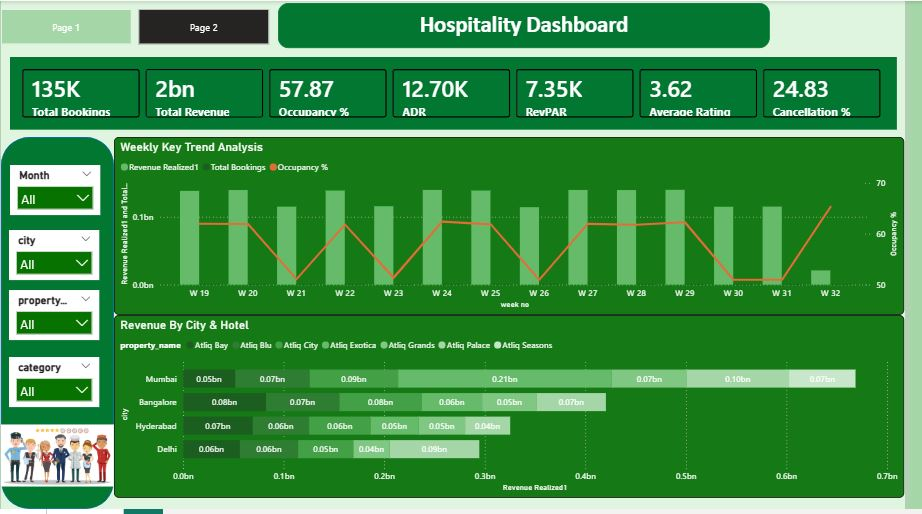

Layout of this report page (visuals, bound fields, positions):
{"tool":"powerbi","page":{"name":"Page 2","canvas":[1280,720],"ordinal":1},"visuals":[{"type":"lineClusteredColumnComboChart","title":"Weekly Key Trend Analysis ","fields":{"Category":["dim_date.week no"],"Y":["fact_bookings.Revenue Realized1","fact_bookings.Total Bookings"],"Y2":["fact_bookings.Occupancy %"]},"box":[160.2,192.8,1119.7,252.3],"z":0},{"type":"barChart","title":"Revenue By City & Hotel","fields":{"Category":["dim_hotels.city"],"Y":["fact_bookings.Revenue Realized1"],"Series":["dim_hotels.property_name"]},"box":[160.2,445,1119.7,259.4],"z":1000},{"type":"shape","box":[0,192.8,160.2,527.2],"z":2000},{"type":"slicer","fields":{"Values":["dim_date.mmm yy.Variation.Date Hierarchy.Month"]},"box":[13,232.3,128.4,70.7],"z":3000},{"type":"slicer","fields":{"Values":["dim_hotels.city"]},"box":[11.5,324.6,128.4,70.7],"z":4000},{"type":"slicer","fields":{"Values":["dim_hotels.property_name"]},"box":[11.5,409.7,128.4,70.7],"z":5000},{"type":"slicer","fields":{"Values":["dim_hotels.category"]},"box":[11.5,505,128.4,70.7],"z":6000},{"type":"image","box":[0,588.2,160.2,112],"z":7000},{"type":"cardVisual","fields":{"Data":["fact_bookings.Total Bookings","Sum(fact_bookings.revenue_realized)","fact_bookings.Occupancy %","fact_bookings.ADR","fact_bookings.RevPAR","fact_bookings.Average Rating","fact_bookings.Cancellation %"]},"box":[12.8,79.4,1257.2,103.5],"z":8000},{"type":"textbox","box":[393.1,3.4,697.1,63.8],"z":9000},{"type":"pageNavigator","box":[0,11,381.6,50.3],"z":9001}]}

Visuals, with their boxes in screenshot pixels (x1, y1, x2, y2), scaled from the page's 1280x720 canvas onto the 922x514 screenshot:
"Weekly Key Trend Analysis " lineClusteredColumnComboChart: bbox=(115, 138, 921, 318)
"Revenue By City & Hotel" barChart: bbox=(115, 318, 921, 503)
shape: bbox=(0, 138, 115, 513)
slicer - dim_date.mmm yy.Variation.Date Hierarchy.Month: bbox=(9, 166, 102, 216)
slicer - dim_hotels.city: bbox=(8, 232, 101, 282)
slicer - dim_hotels.property_name: bbox=(8, 292, 101, 343)
slicer - dim_hotels.category: bbox=(8, 361, 101, 411)
image: bbox=(0, 420, 115, 500)
cardVisual - fact_bookings.Total Bookings x Sum(fact_bookings.revenue_realized): bbox=(9, 57, 915, 131)
textbox: bbox=(283, 2, 785, 48)
pageNavigator: bbox=(0, 8, 275, 44)
